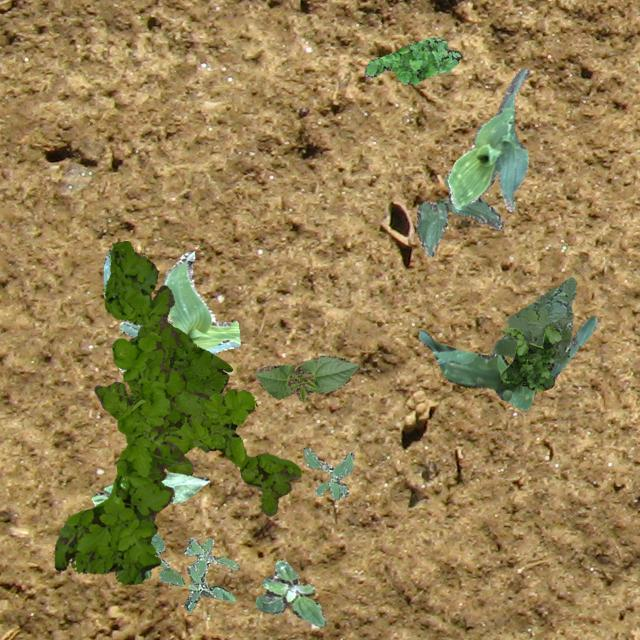crop: (418, 314, 596, 410), (103, 250, 240, 352), (446, 68, 528, 210), (414, 172, 502, 256), (254, 354, 358, 402), (90, 472, 208, 504)
weed: (54, 240, 185, 584), (94, 322, 232, 474), (162, 388, 300, 516), (492, 276, 574, 362), (254, 560, 326, 626), (364, 36, 461, 84), (182, 536, 238, 610), (500, 324, 560, 390), (302, 446, 352, 499), (142, 532, 184, 584)
